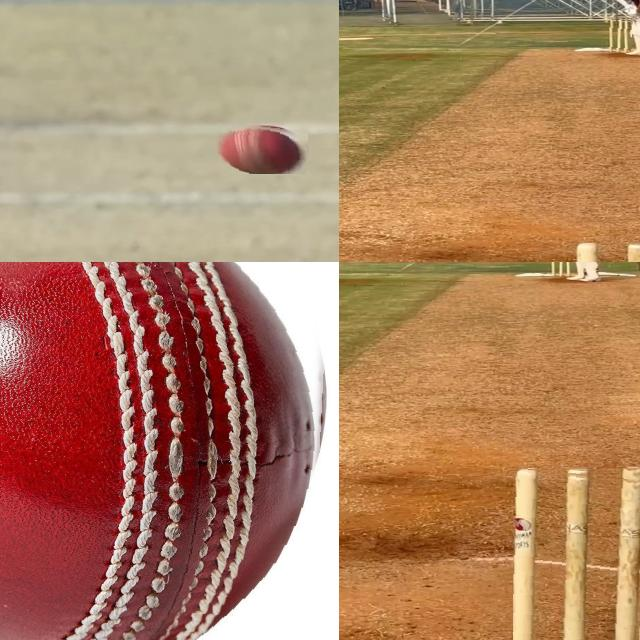Cricket ball: (0, 262, 332, 640), (217, 122, 308, 174)
Stumps: (512, 467, 640, 640), (606, 17, 633, 53), (551, 262, 570, 278)
